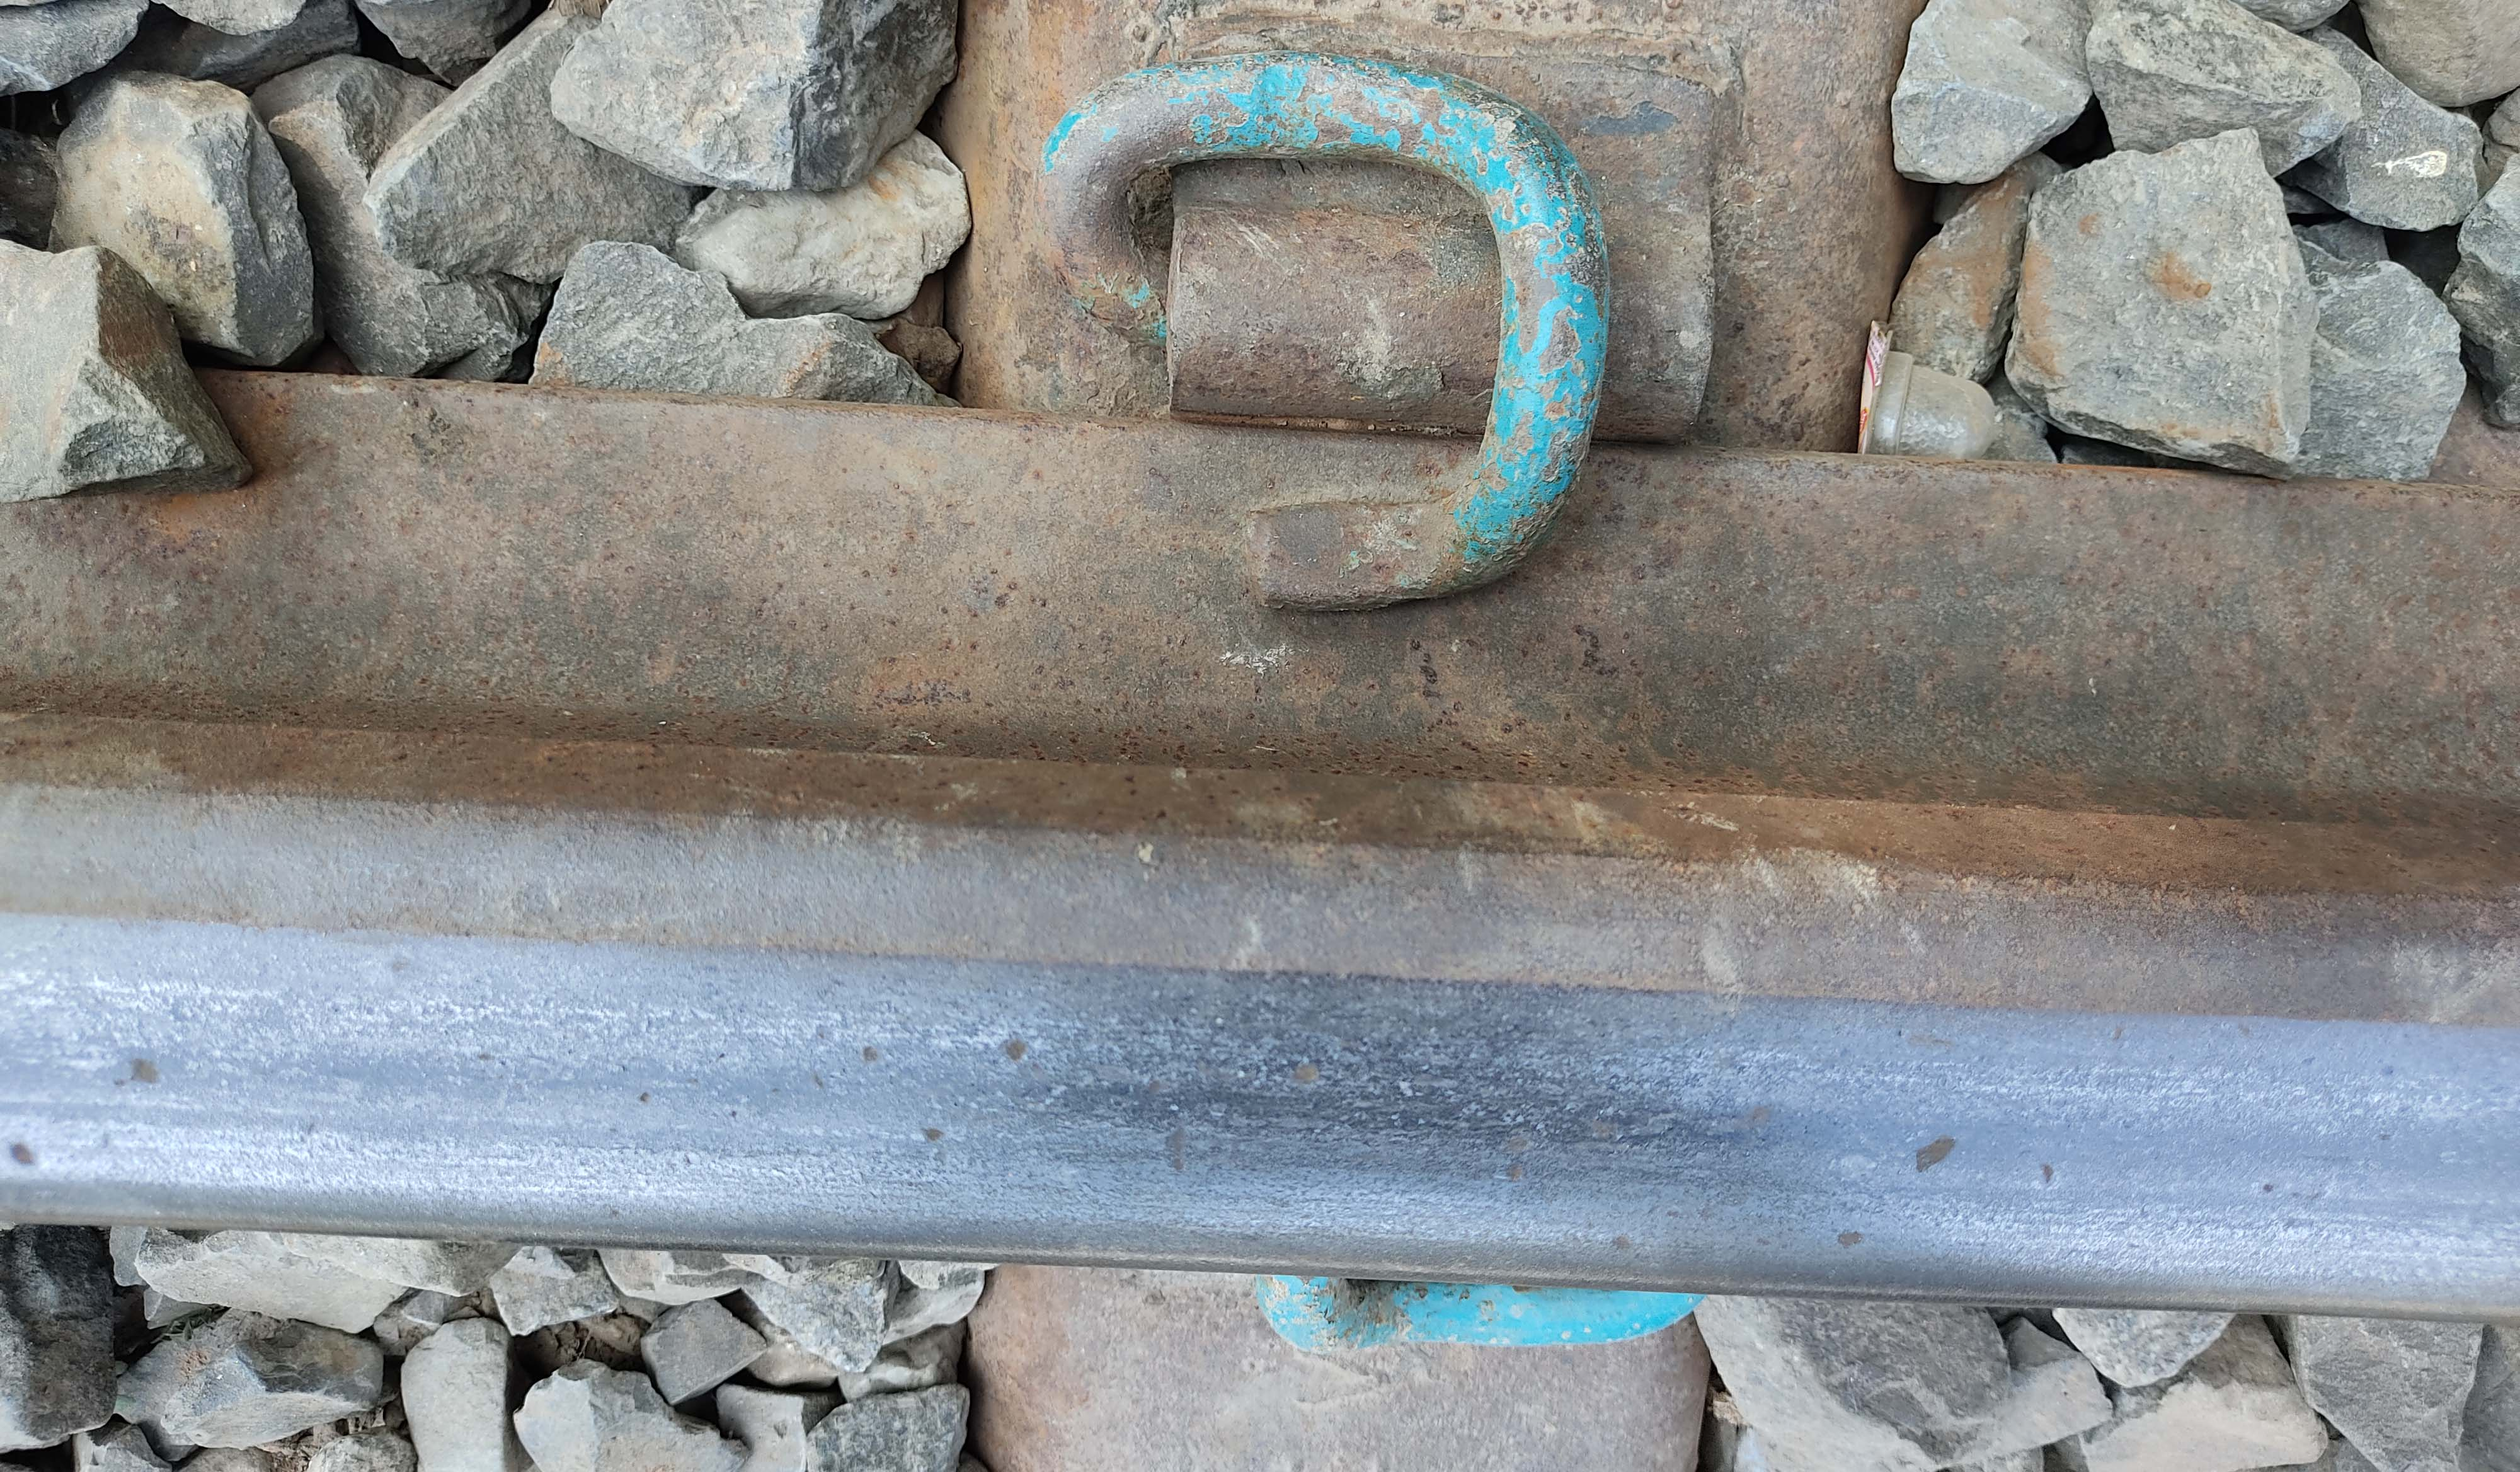error1: (993, 72, 1730, 541)
